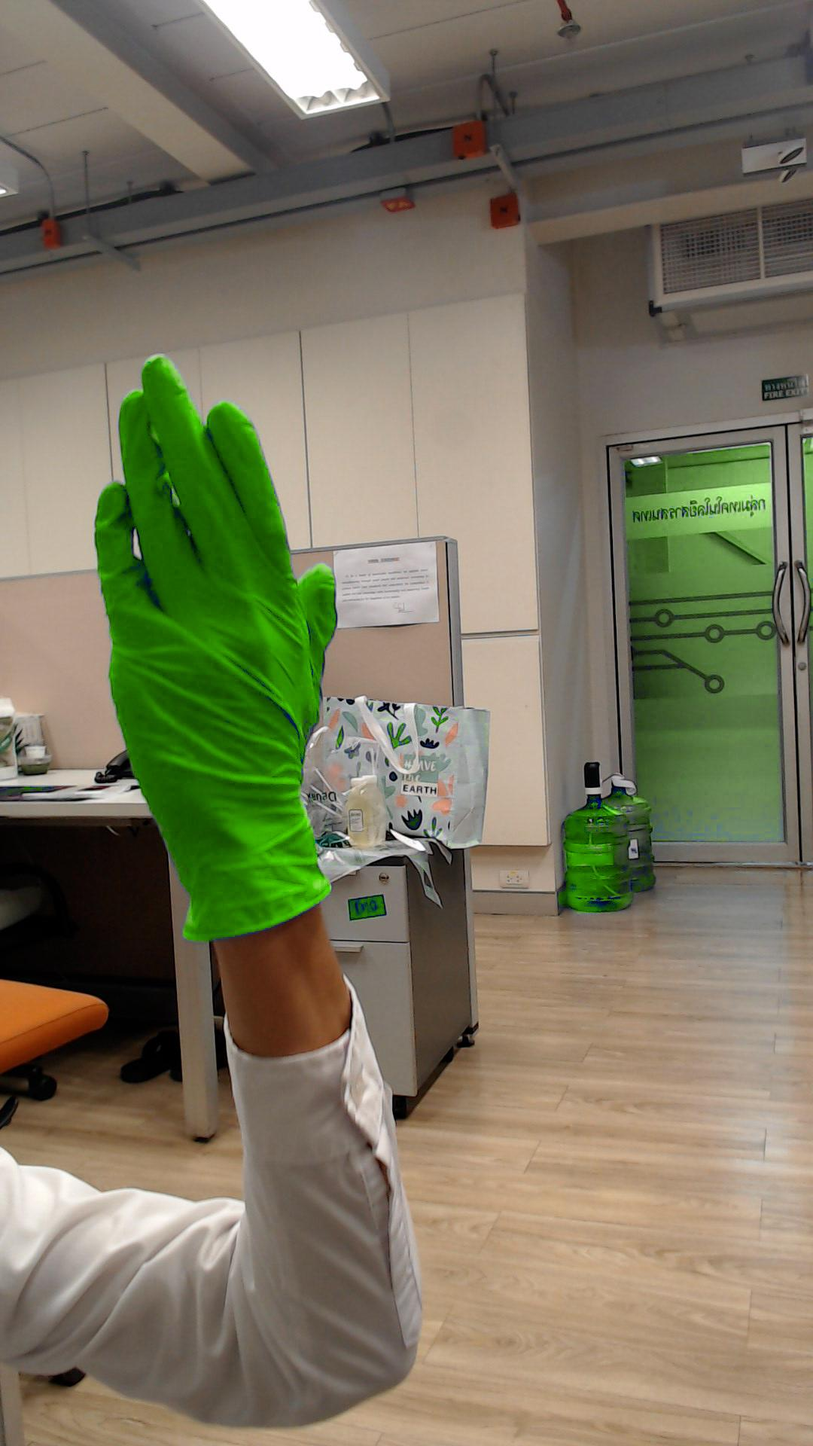gloves: (88, 343, 355, 813)
